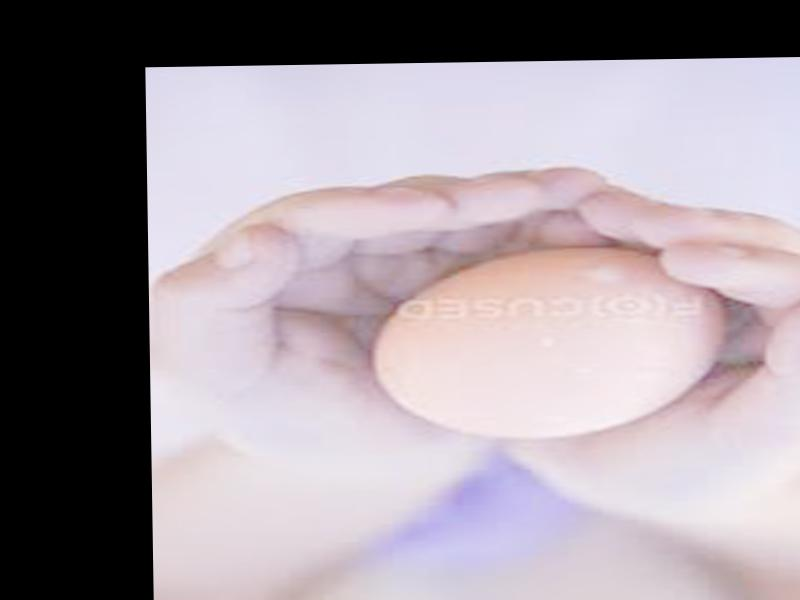Eggs: (366, 245, 723, 442)
